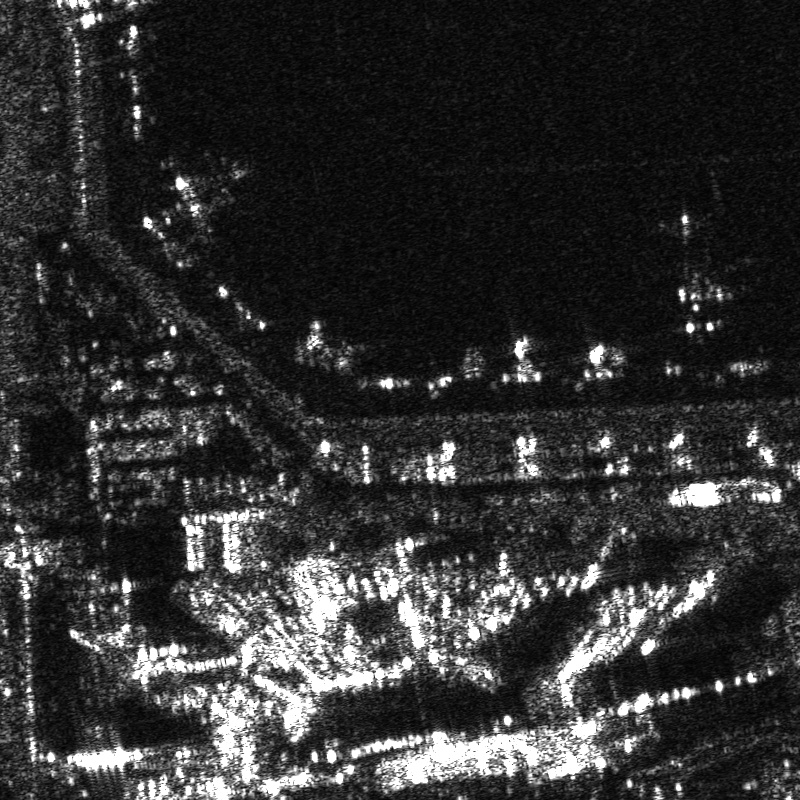A220: (161, 161, 251, 235)
Boeing787: (662, 268, 743, 349)
